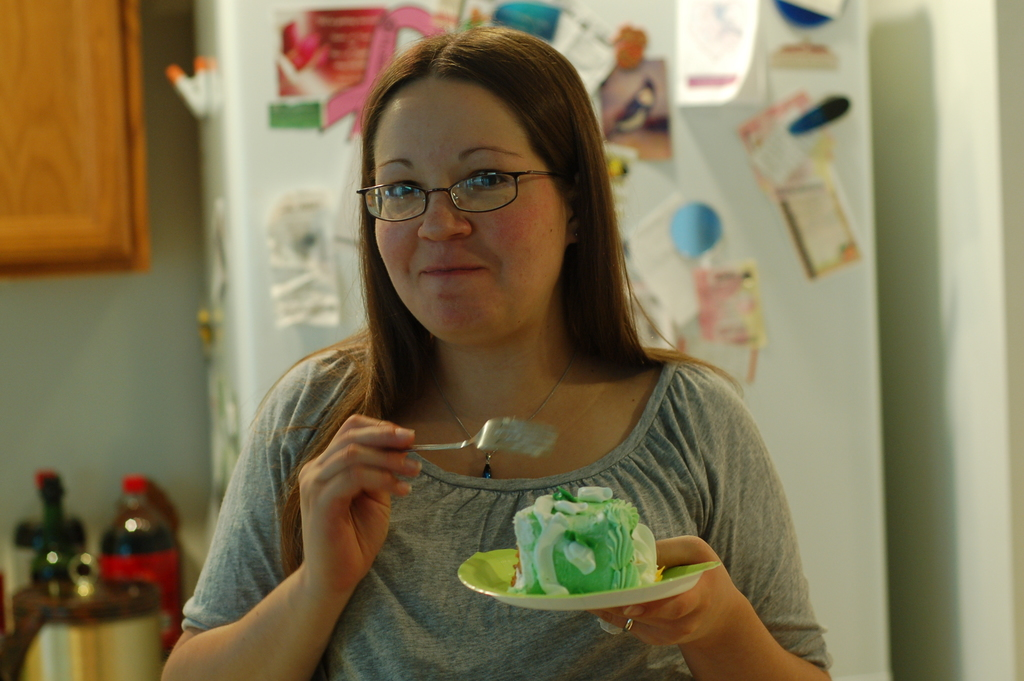cabinet door: (6, 8, 131, 240)
